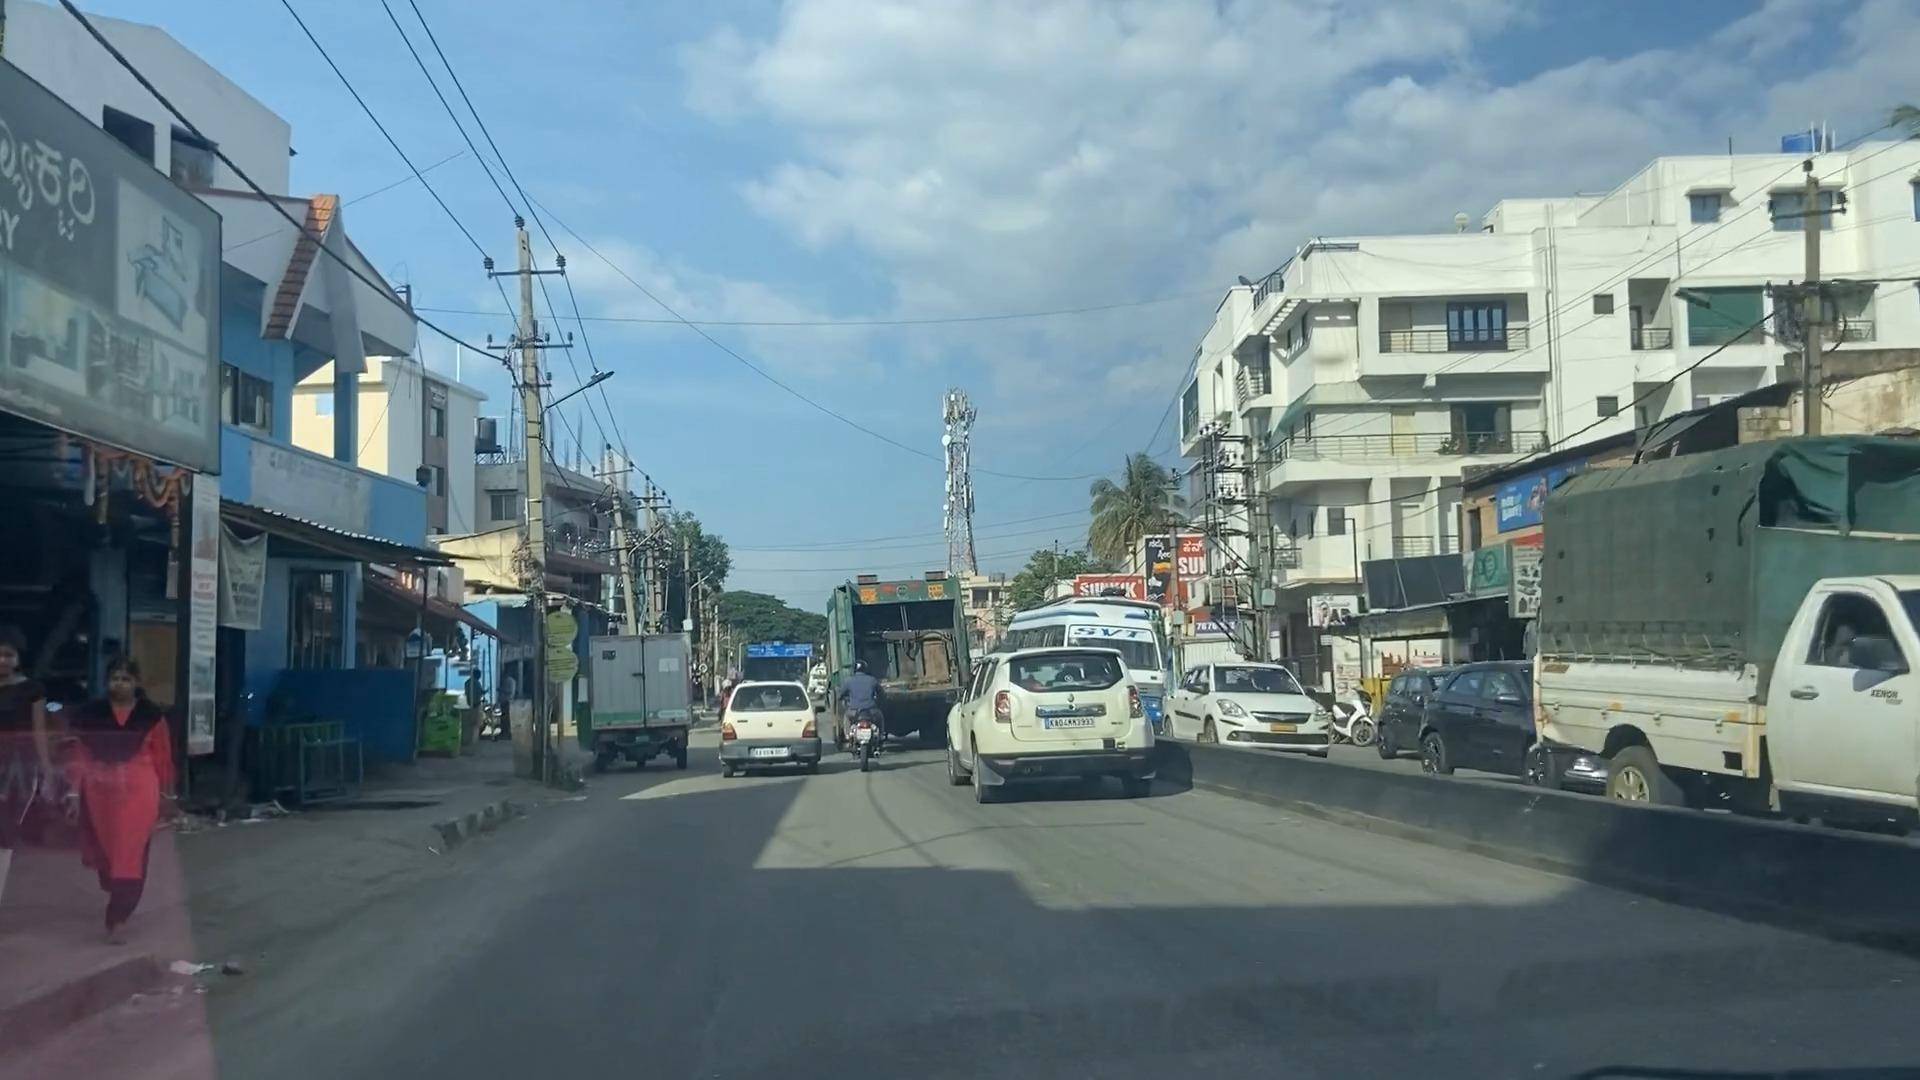HMV: (823, 587, 971, 745)
LMV: (928, 647, 1125, 789), (709, 676, 812, 761)
